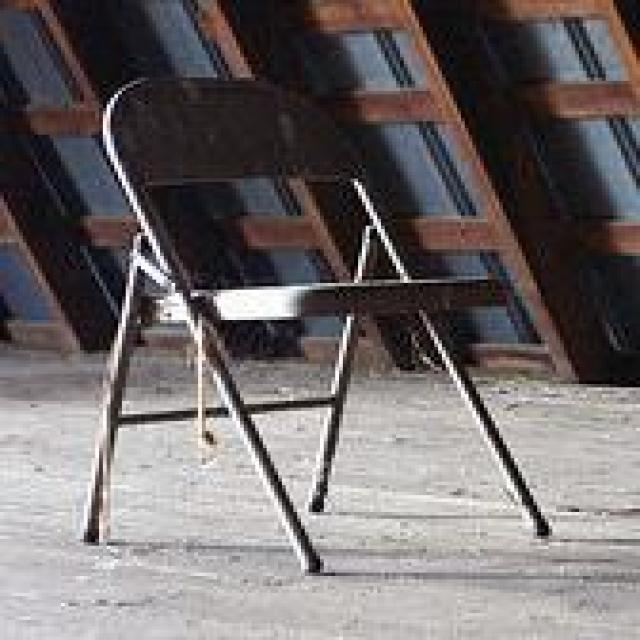chair: (81, 78, 555, 577)
